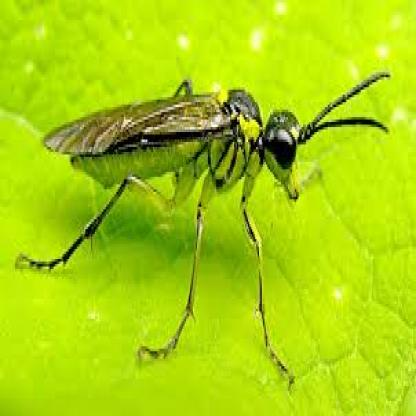sawfly: (16, 55, 390, 396)
